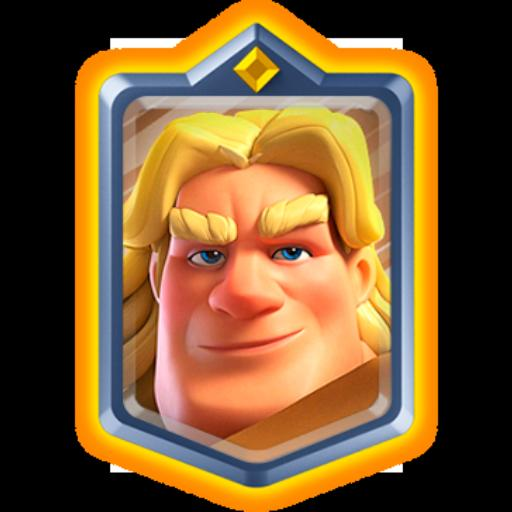golden-knight: (112, 98, 398, 466)
